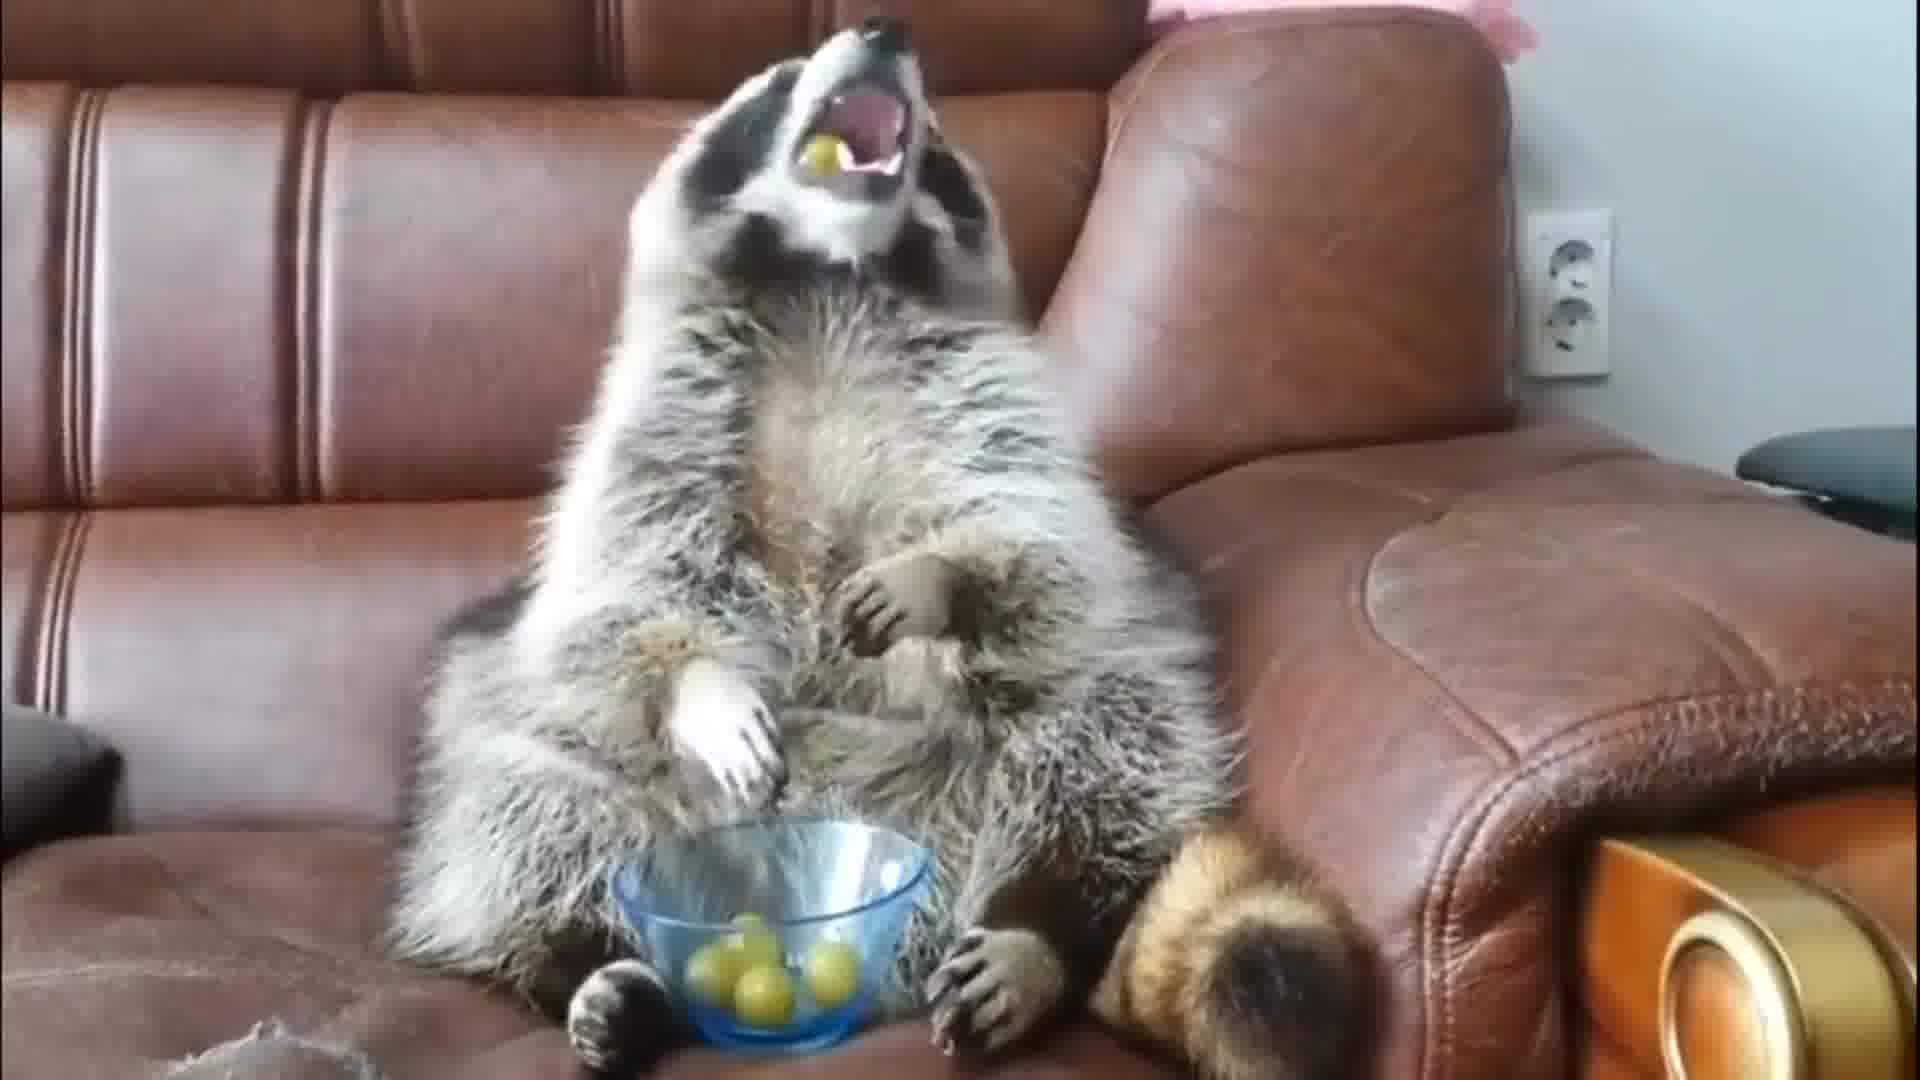raccoon: (392, 4, 1382, 1080)
